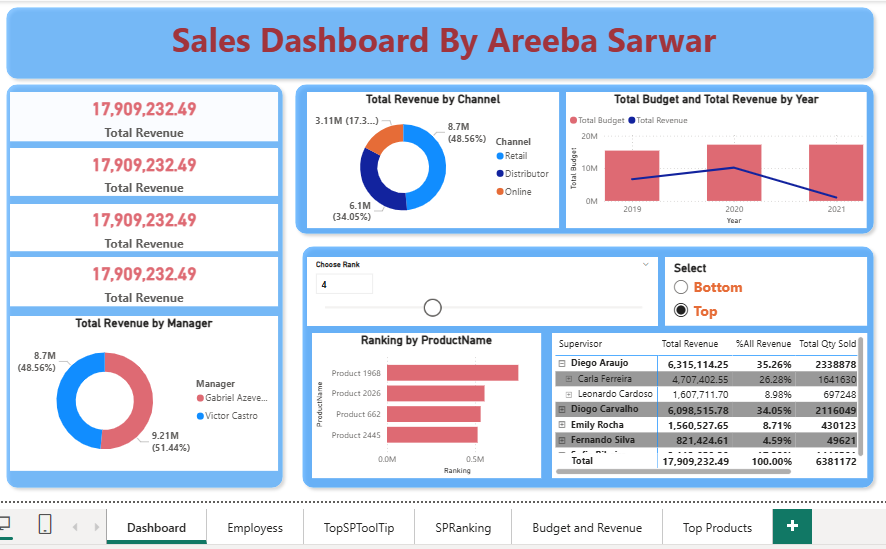

What the dashboard file says about the page in this screenshot:
{"tool":"powerbi","page":{"name":"Dashboard","canvas":[1280,720],"ordinal":0},"visuals":[{"type":"shape","box":[0,0,1267.2,121],"z":0},{"type":"shape","box":[0,110.9,416.2,599],"z":1000},{"type":"shape","box":[416.2,110.9,851,233.3],"z":2000},{"type":"shape","box":[426.2,344.2,841,365.8],"z":3000},{"type":"textbox","box":[63.4,15.8,1152,89.3],"z":4000},{"type":"card","fields":{"Values":["All Measures.Total Revenue"]},"box":[14.4,131,385.9,70.6],"z":5000},{"type":"card","fields":{"Values":["All Measures.Total Revenue"]},"box":[14.4,211.7,385.9,69.1],"z":6000},{"type":"card","fields":{"Values":["All Measures.Total Revenue"]},"box":[14.4,292.3,385.9,67.7],"z":7000},{"type":"card","fields":{"Values":["All Measures.Total Revenue"]},"box":[14.4,368.6,385.9,70.6],"z":8000},{"type":"donutChart","fields":{"Y":["All Measures.Total Revenue"],"Category":["Fact Table.Manager"]},"box":[14.4,453.6,385.9,223.2],"z":9000},{"type":"donutChart","fields":{"Y":["All Measures.Total Revenue"],"Category":["Fact Table.Channel"]},"box":[442.1,131,362.9,195.8],"z":10000},{"type":"lineStackedColumnComboChart","fields":{"Y":["All Measures.Total Budget"],"Y2":["All Measures.Total Revenue"],"Category":["Calender.Date.Variation.Date Hierarchy.Year","Calender.Date.Variation.Date Hierarchy.Quarter","Calender.Date.Variation.Date Hierarchy.Month","Calender.Date.Variation.Date Hierarchy.Day"]},"box":[815,131,433.4,195.8],"z":11000},{"type":"slicer","fields":{"Values":["Choose Rank.Choose Rank"]},"box":[442.1,368.6,505.4,99.4],"z":12000},{"type":"slicer","fields":{"Values":["Choose Rank Type.Select"]},"box":[957.6,368.6,290.9,99.4],"z":13000},{"type":"clusteredBarChart","fields":{"Y":["All Measures.Ranking"],"Category":["Product.ProductName"]},"box":[449.3,478.1,329.8,208.8],"z":14000},{"type":"pivotTable","fields":{"Rows":["Fact Table.Supervisor","Fact Table.Salesperson","Calender.Month"],"Values":["All Measures.Total Revenue","All Measures.%All Revenue","All Measures.Total Qty Sold","All Measures.% Qty Sold"]},"box":[794.9,478.1,453.6,208.8],"z":15000}]}

Visuals, with their boxes on the page's 1280x720 design canvas (x1, y1, x2, y2). These are canvas units, not pixel positions in the 886x549 screenshot, which may show the page scaled, cropped or inside an application window:
shape: region(0, 0, 1267, 121)
shape: region(0, 111, 416, 710)
shape: region(416, 111, 1267, 344)
shape: region(426, 344, 1267, 710)
textbox: region(63, 16, 1215, 105)
card - All Measures.Total Revenue: region(14, 131, 400, 202)
card - All Measures.Total Revenue: region(14, 212, 400, 281)
card - All Measures.Total Revenue: region(14, 292, 400, 360)
card - All Measures.Total Revenue: region(14, 369, 400, 439)
donutChart - All Measures.Total Revenue x Fact Table.Manager: region(14, 454, 400, 677)
donutChart - All Measures.Total Revenue x Fact Table.Channel: region(442, 131, 805, 327)
lineStackedColumnComboChart - All Measures.Total Budget x All Measures.Total Revenue: region(815, 131, 1248, 327)
slicer - Choose Rank.Choose Rank: region(442, 369, 948, 468)
slicer - Choose Rank Type.Select: region(958, 369, 1248, 468)
clusteredBarChart - All Measures.Ranking x Product.ProductName: region(449, 478, 779, 687)
pivotTable - Fact Table.Supervisor x Fact Table.Salesperson: region(795, 478, 1248, 687)
